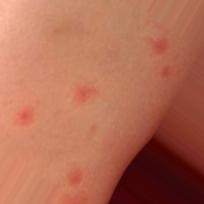Fleas: (67, 79, 98, 106), (64, 168, 83, 187), (15, 106, 32, 125), (151, 37, 166, 53), (159, 65, 171, 77)
